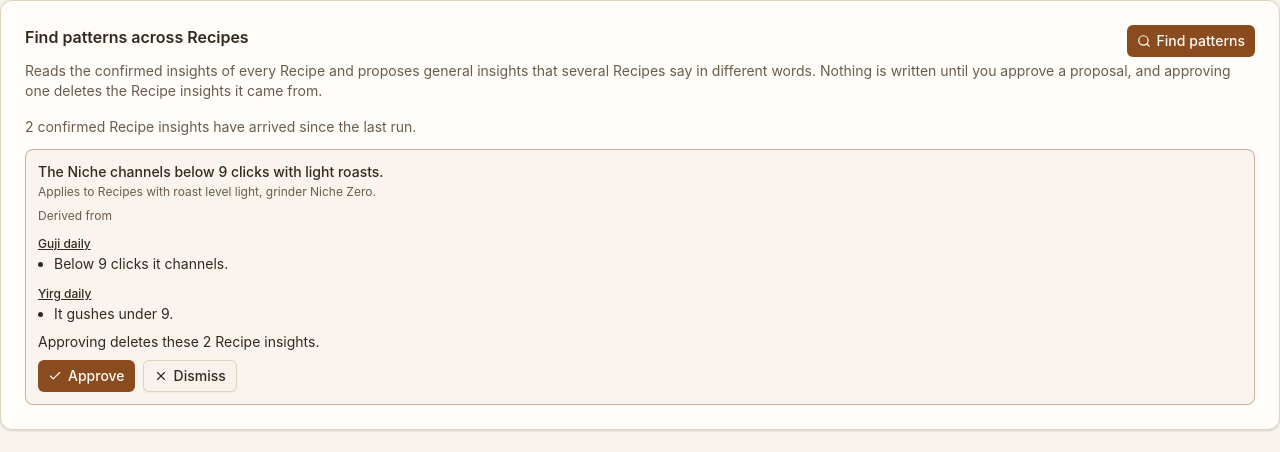
Test: answering a proposal › names a skipped source and counts only what was deleted
The width and height of the screenshot is (1280, 452).
Click the button "Approve": (86,376) [38,360,135,392]
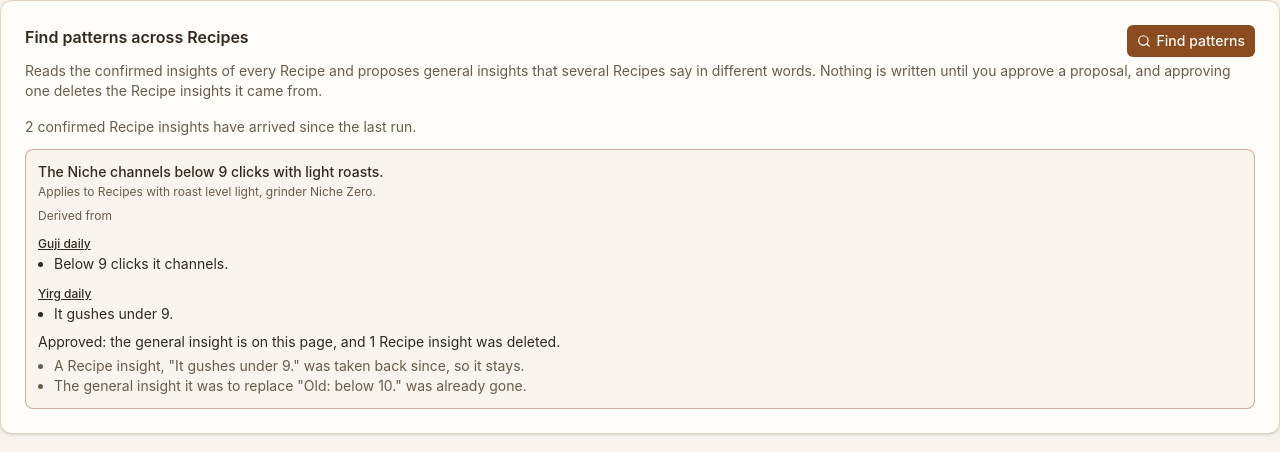
Expected: the list with test id "pattern-skipped" shows "A Recipe insight, \"It gushes under 9.\" was taken back since, so it stays.", [54,357,527,394]
Expected: the list with test id "pattern-skipped" shows "The general insight it was to replace \"Old: below 10.\" was already gone.", [54,357,527,394]
Expected: the element with test id "pattern-decided" shows "1 Recipe insight was deleted", [38,333,560,394]
